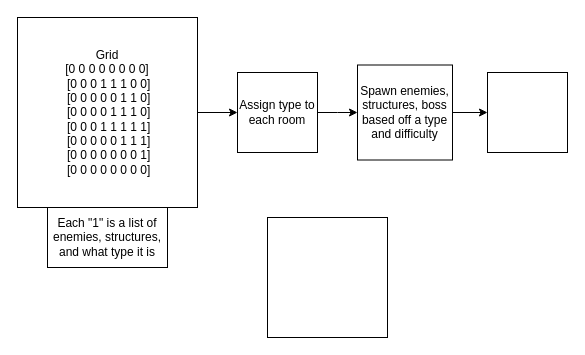
This 585x355 diagram has some shape labels left out. The centre of each missing label's shape, as x and y in pixels:
"#0 no room #1 normal room #2 spawn room" belongs at [327,277].
"Load room if player in it" belongs at [527,112].
